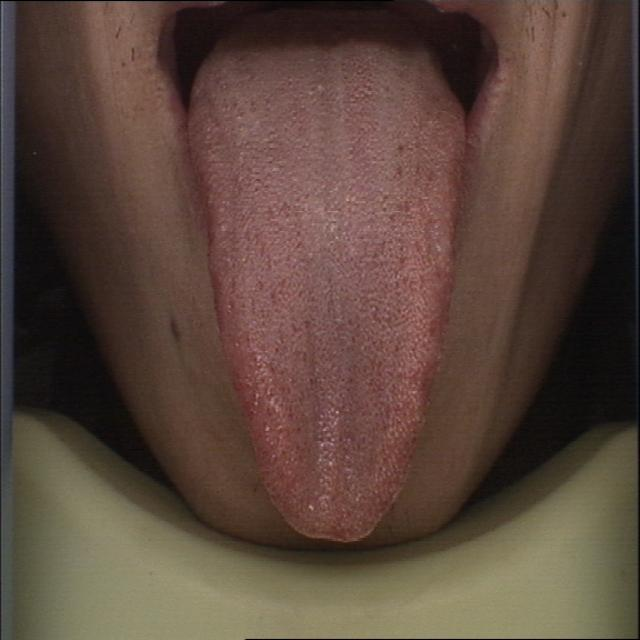tongue: (183, 24, 474, 552)
